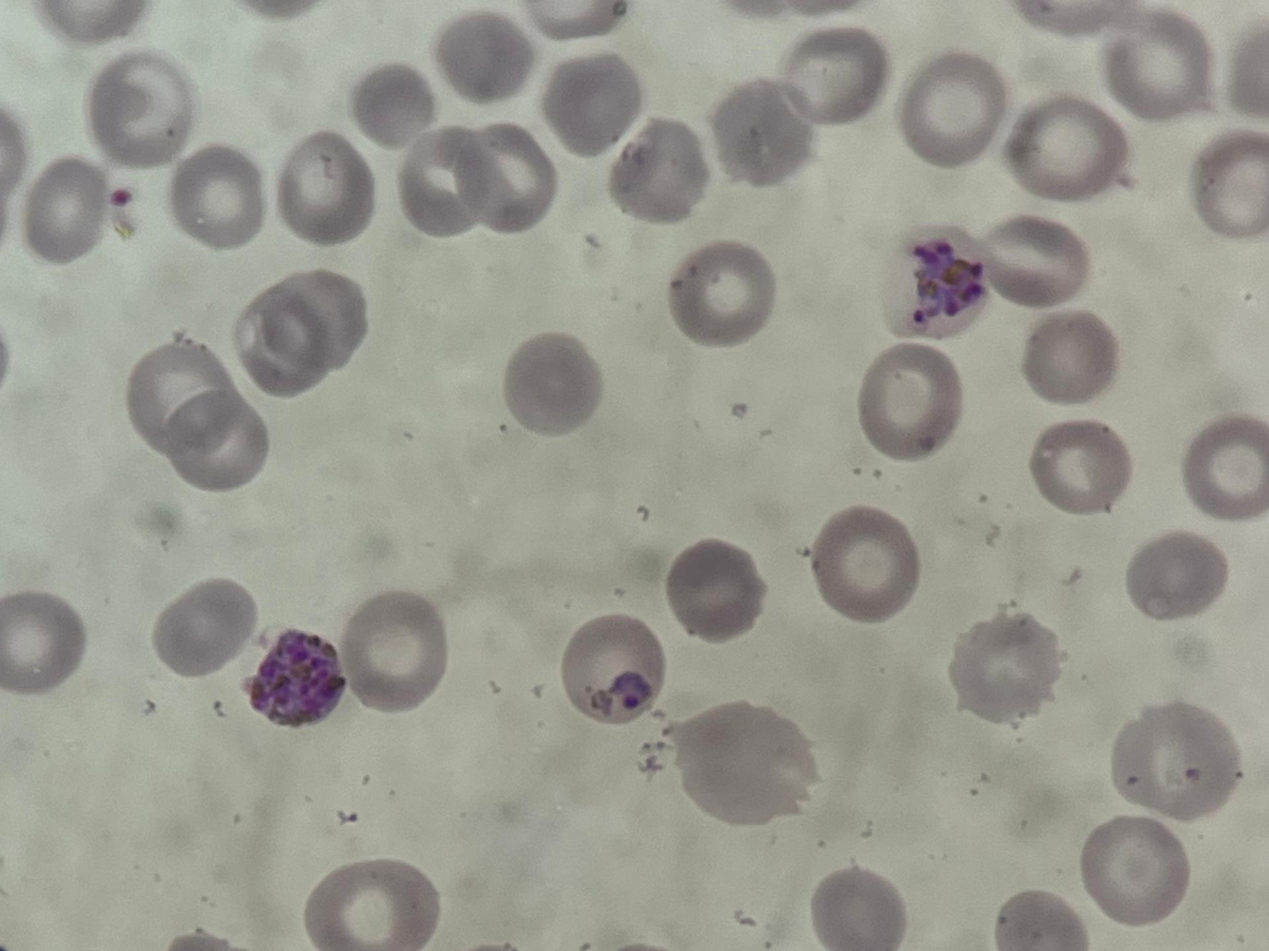Infected: (601, 225, 706, 336), (276, 610, 381, 718), (923, 223, 1026, 321)
Uninfected: (1005, 457, 1146, 613), (458, 126, 598, 246), (900, 556, 1031, 680), (23, 129, 155, 248), (137, 747, 260, 856), (204, 225, 321, 339), (818, 237, 929, 357), (346, 328, 459, 444), (826, 0, 963, 93), (305, 489, 411, 607), (77, 25, 194, 130), (264, 785, 372, 897), (490, 602, 603, 709), (621, 787, 733, 893), (1072, 788, 1179, 897), (451, 763, 558, 868), (714, 717, 814, 828), (892, 708, 993, 817), (500, 309, 603, 413), (1009, 273, 1116, 373), (665, 514, 768, 617), (178, 641, 289, 736), (55, 833, 158, 935), (558, 727, 657, 832), (382, 826, 490, 921), (134, 433, 239, 530), (38, 328, 143, 422), (775, 719, 868, 822), (1003, 701, 1097, 802), (733, 847, 837, 938), (1180, 255, 1269, 359), (149, 547, 248, 639), (0, 429, 87, 531), (1159, 689, 1243, 792), (360, 1, 459, 83), (835, 802, 916, 884)
